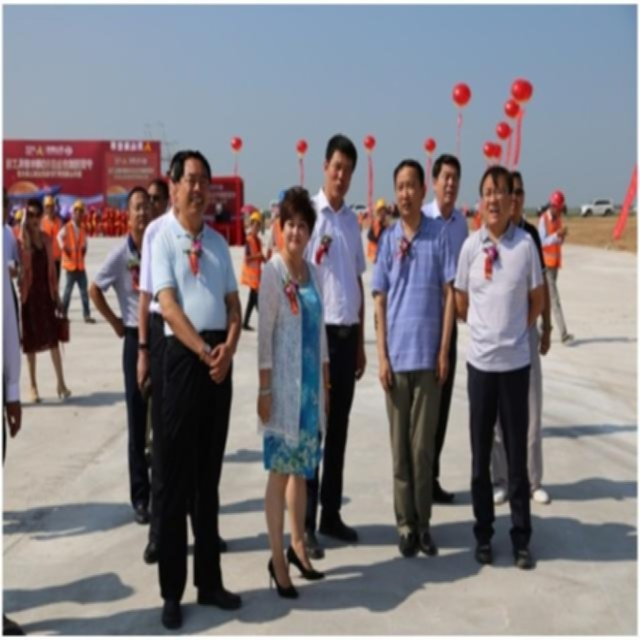Sin_Casco_Mascarrilla: (280, 185, 317, 255), (322, 134, 358, 202)
